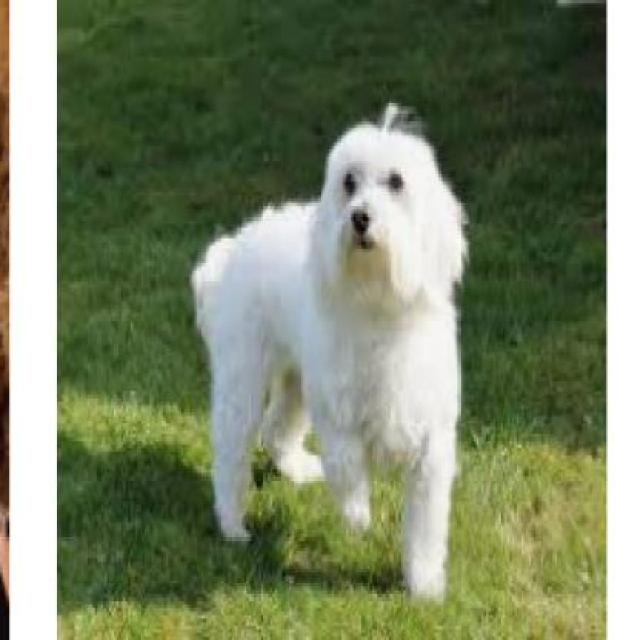Dog: (186, 97, 474, 609)
